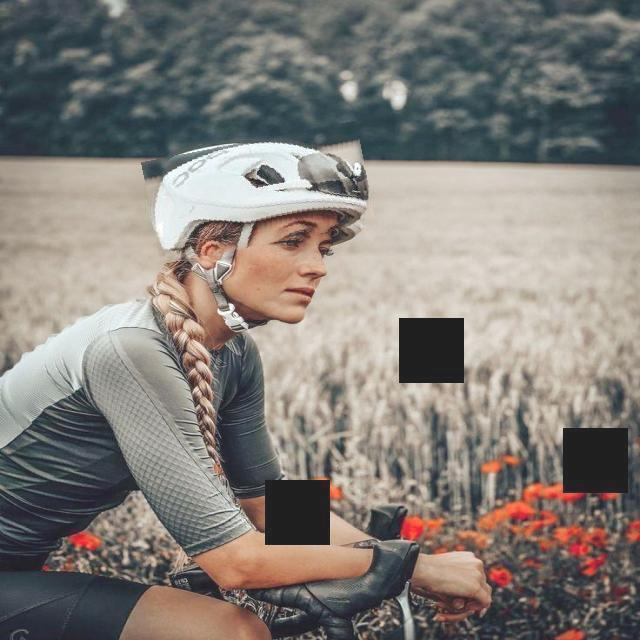helmet: (145, 131, 372, 255)
